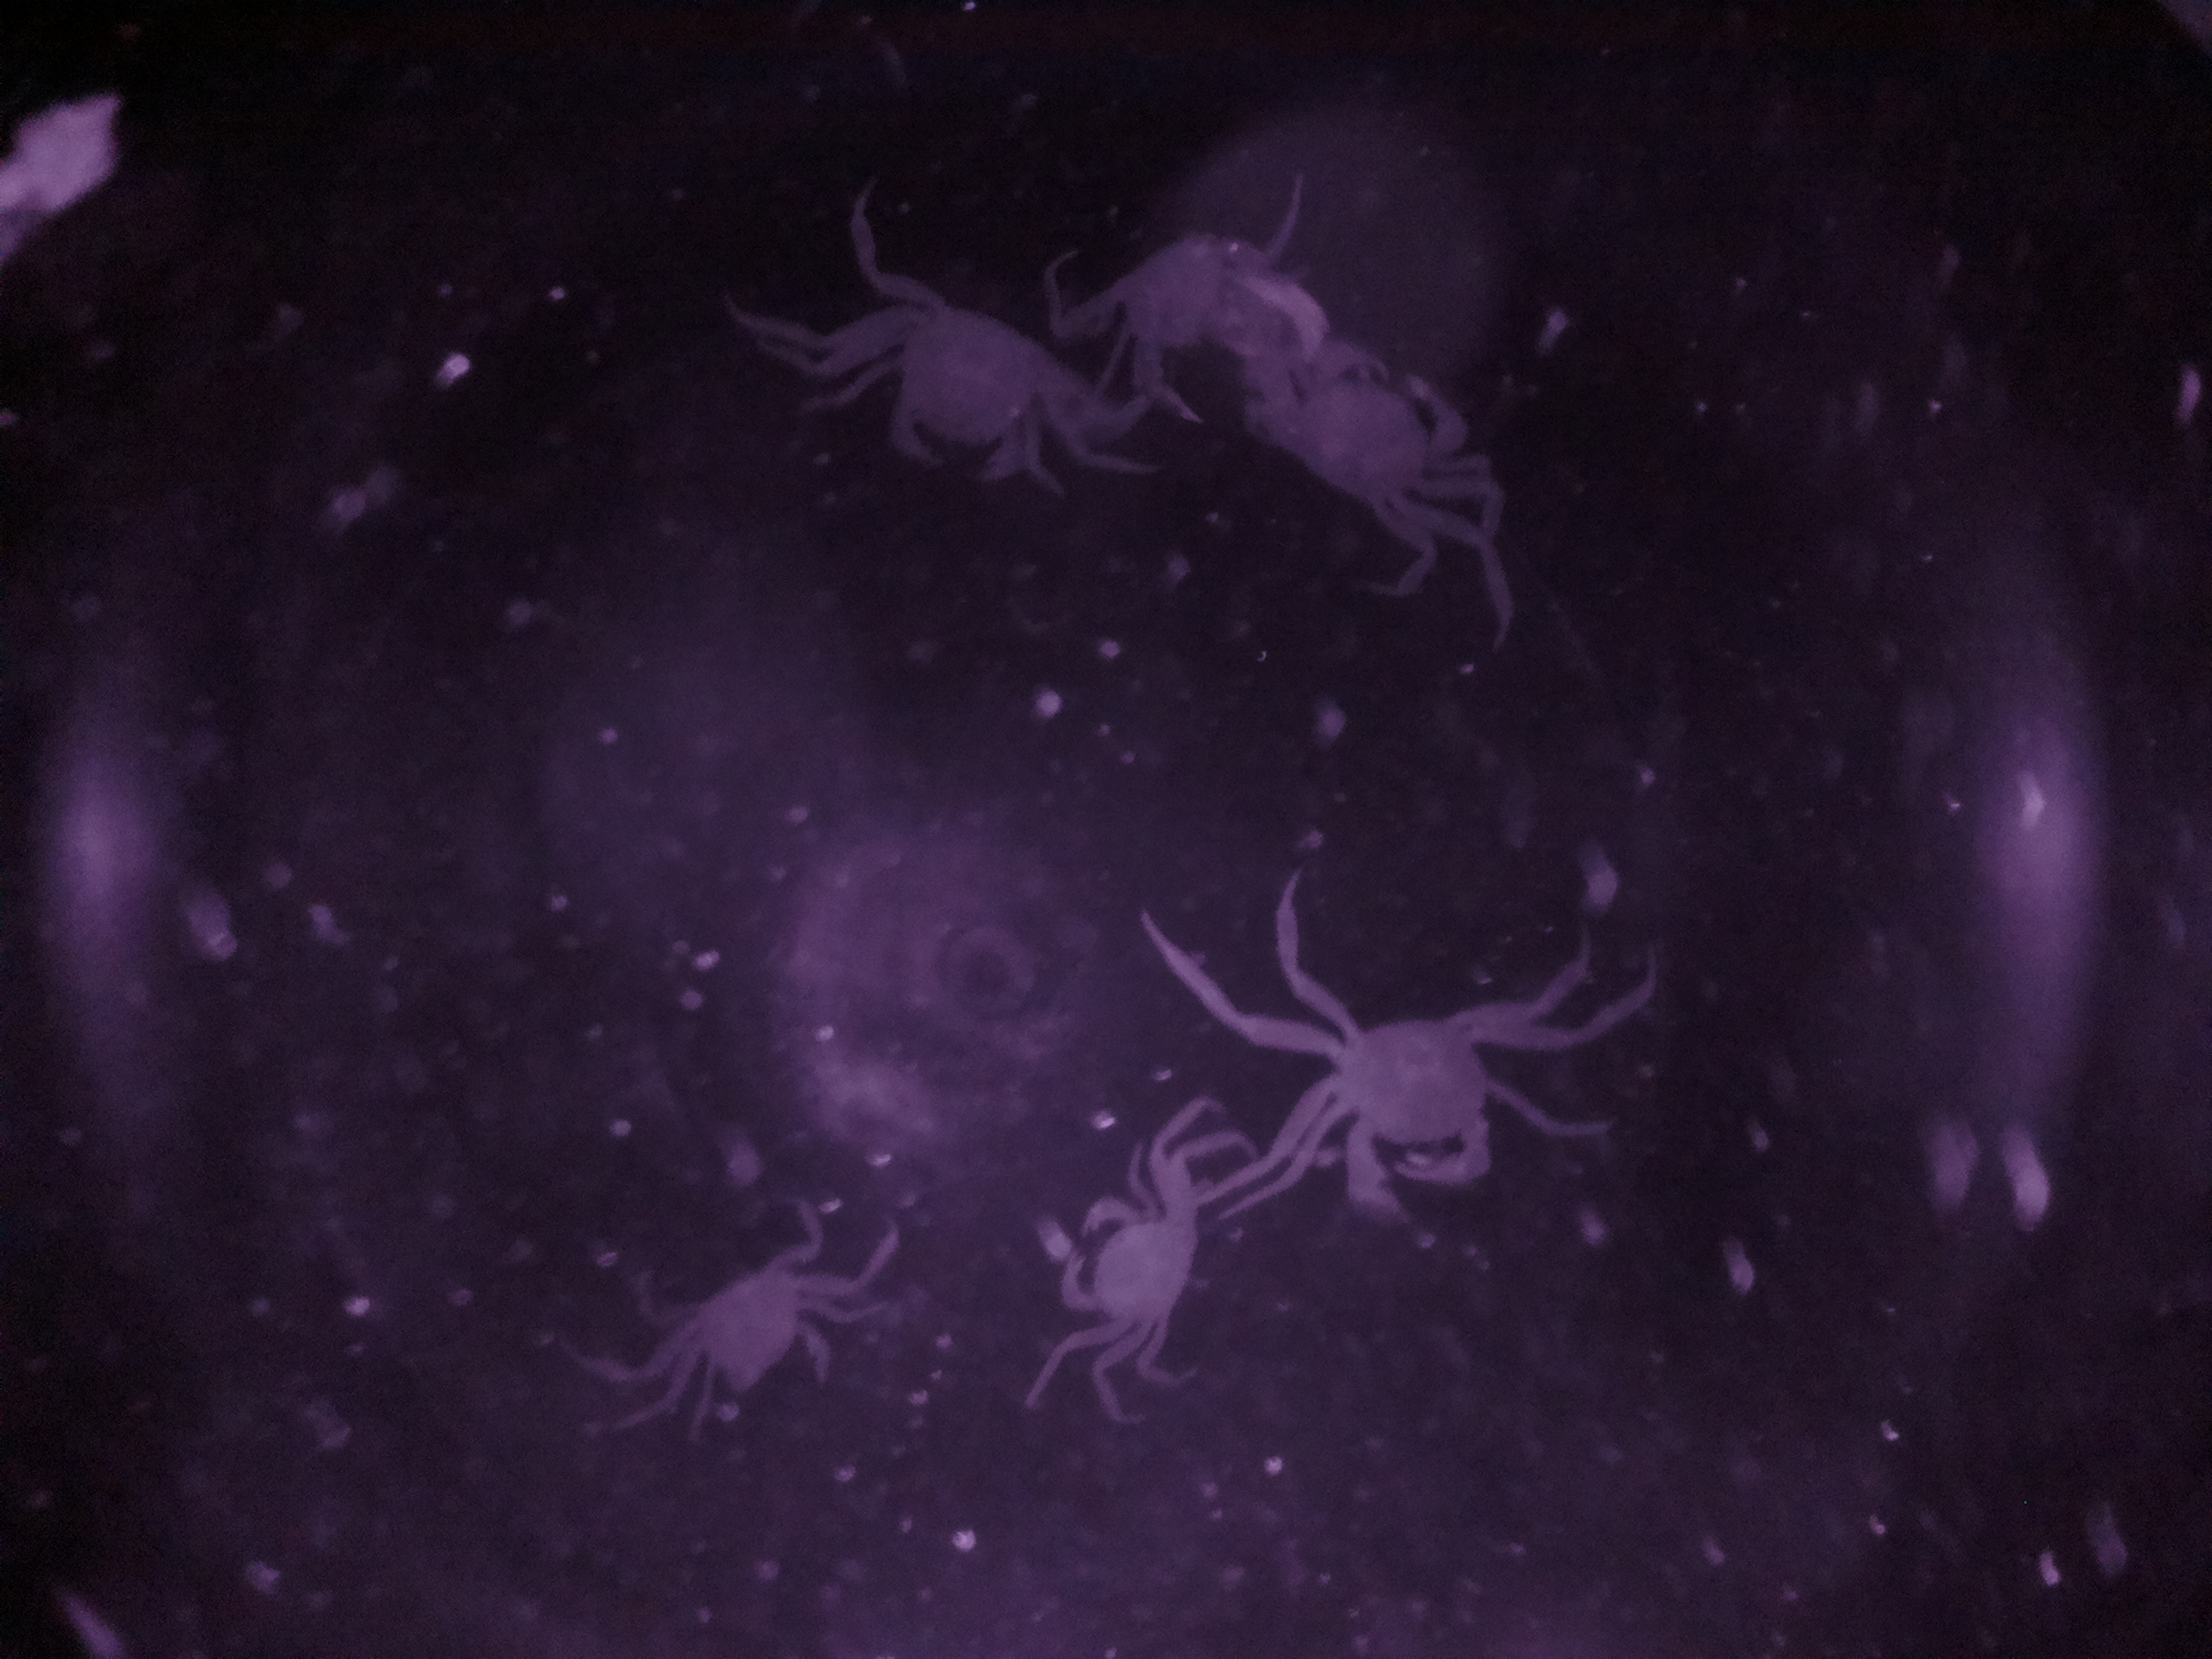Crab: (1226, 967, 1599, 1222), (1026, 1143, 1233, 1389), (650, 1229, 867, 1436)
